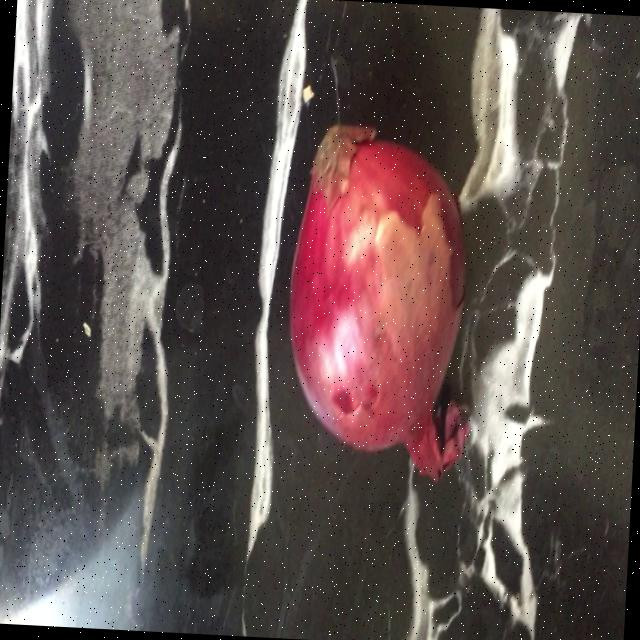Onion: (289, 124, 469, 480)
